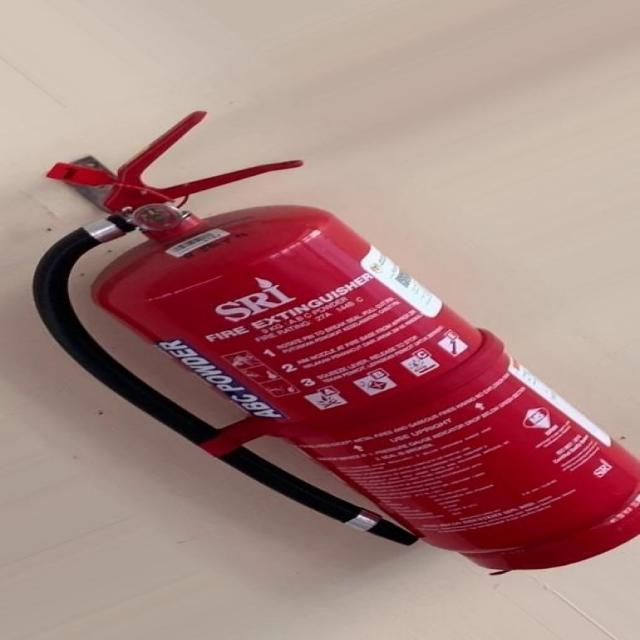fire_extinguisher: (22, 102, 638, 578)
